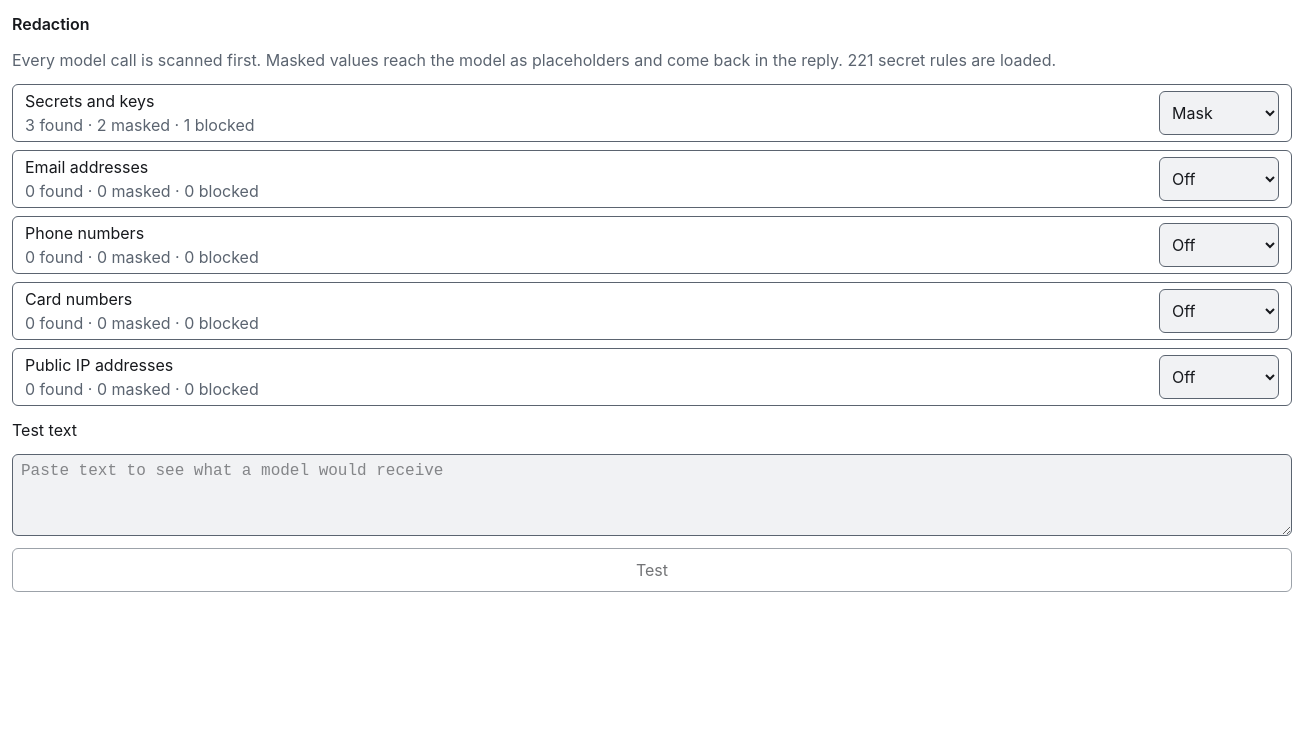
Test case: Redaction › says when the test text is blocked
Type "x" into the text box labelled "Test text".
click(652, 495); type("x")  # box x1=12 y1=454 x2=1292 y2=536
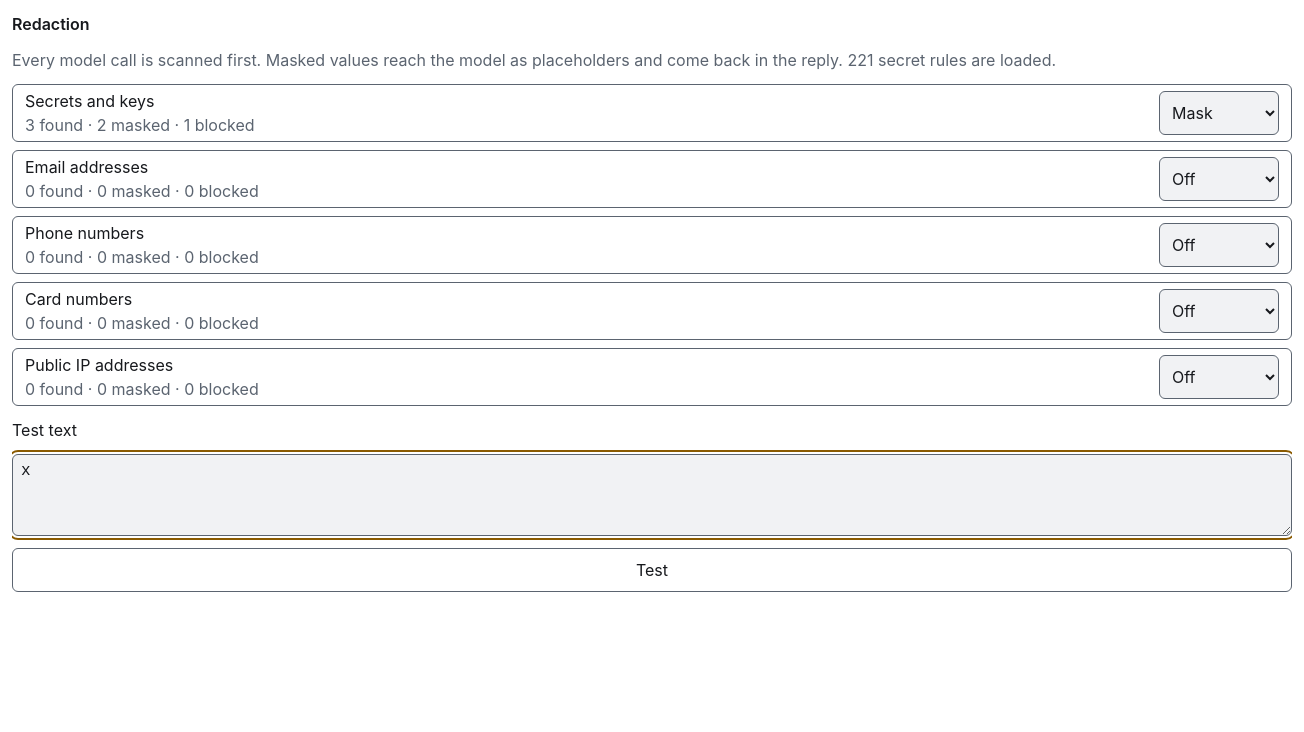
Click the button "Test".
click(652, 570)  # box x1=12 y1=548 x2=1292 y2=592
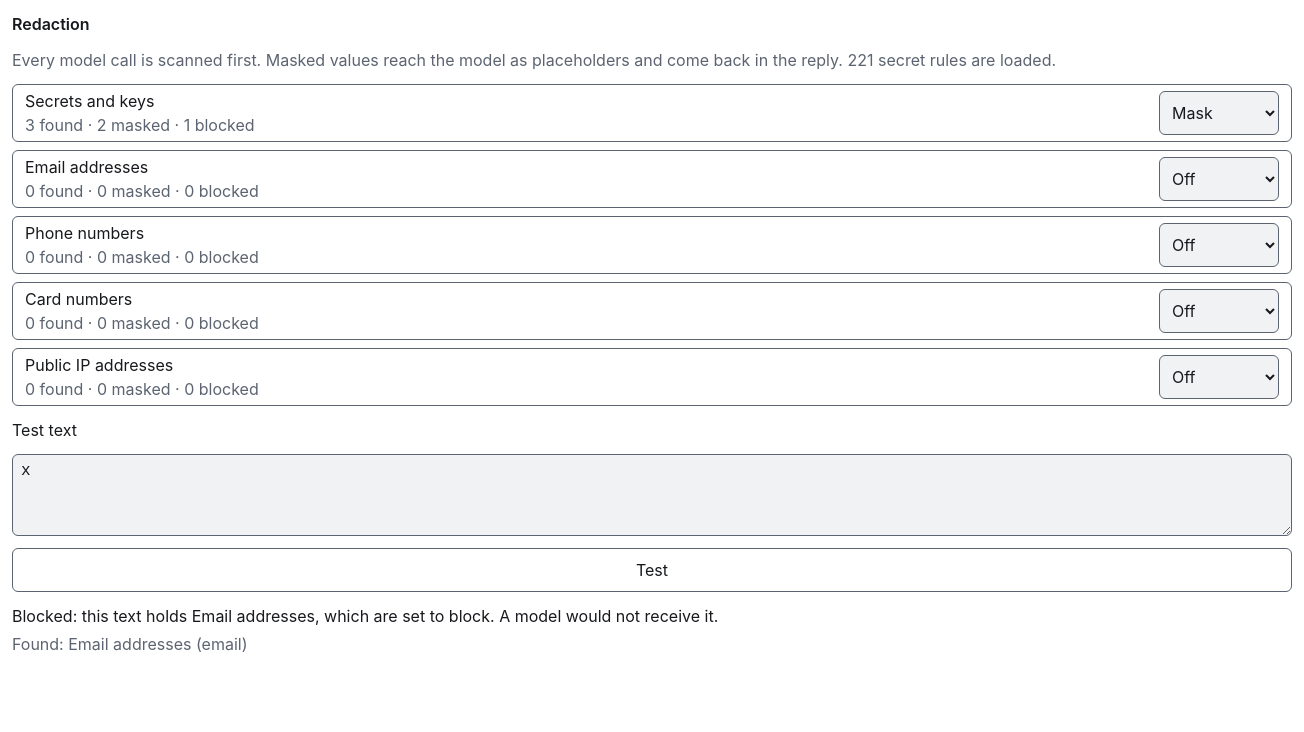
Expected: the text "Blocked: this text holds Email addresses" is shown, x1=12 y1=606 x2=718 y2=626
